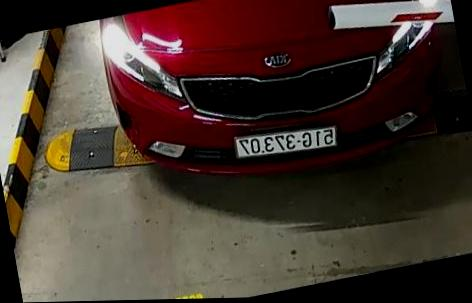License_Plate: (233, 119, 343, 164)
